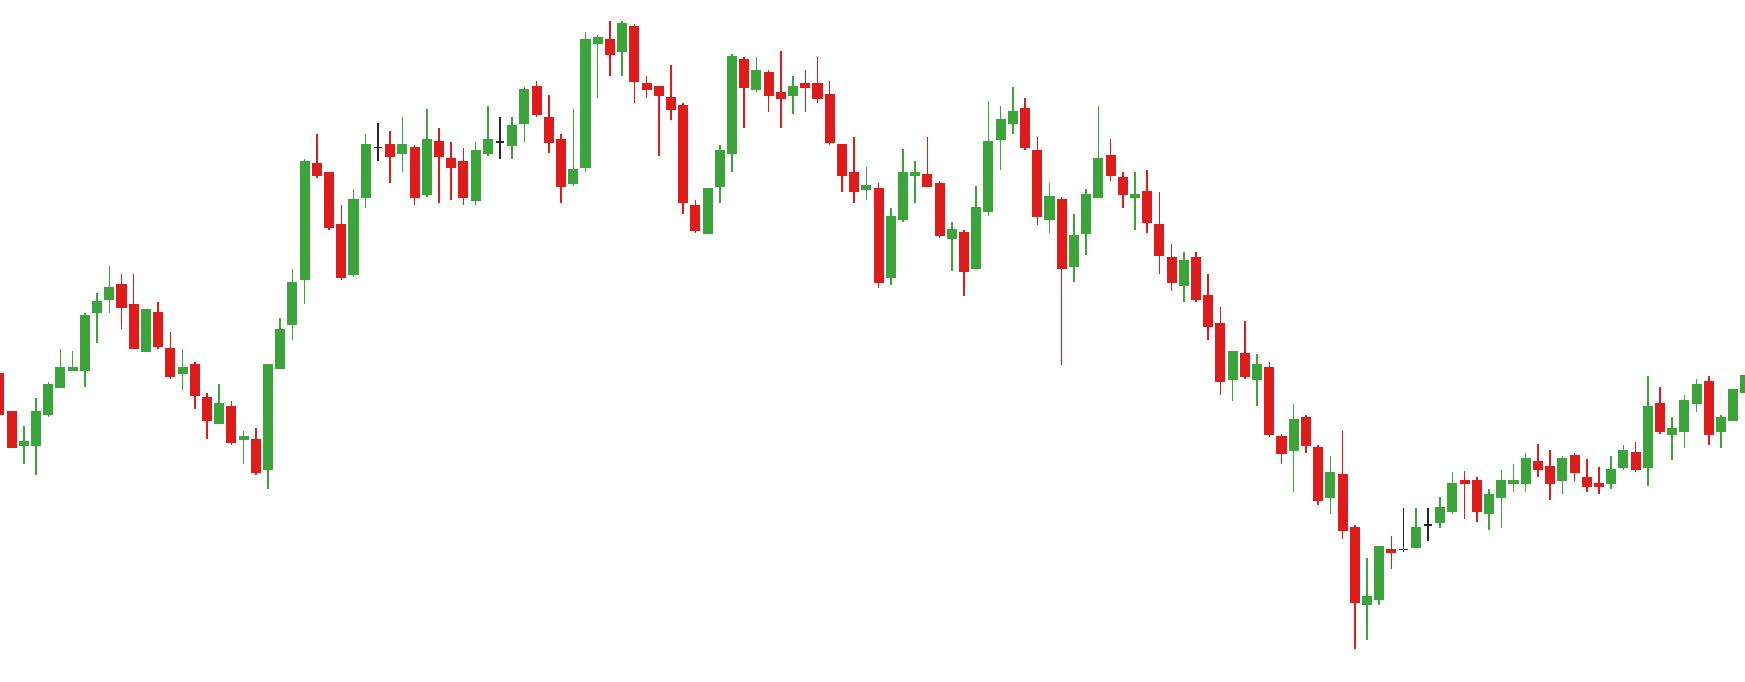sell: (919, 89, 1031, 212), (666, 50, 752, 148)
